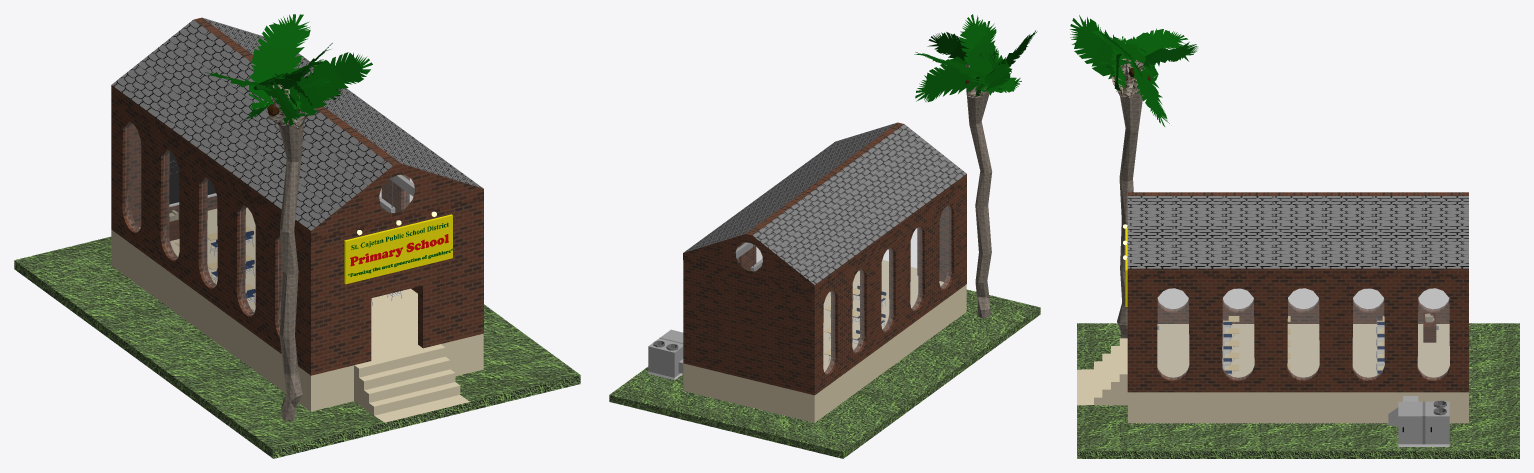
File: K-12 School.glb
3 renders of one model, left to right at view 1: azimuth 30°, elevation 25°; view 2: azimuth 150°, elevation 25°; view 3: azimuth 270°, elevation 25°, orthographic. The views are drawn at different scales.
Parts seen in each view (by area): view 1: Walls, Roof, Ground, Foundation, Coconut.002, Windows, Stairs, Trunk, Sign, Text.001, Chair, Blackboard; view 2: Walls, Roof, Ground, Foundation, Coconut.002, Windows, Trunk, RTU, Chair; view 3: Walls, Roof, Ground, Foundation, Windows, Coconut.002, Trunk, RTU, Stairs, Chair.
Boxes of the visible parts, left/top/right/bottom form: Walls: left=111, top=94, right=483, bottom=375; Roof: left=111, top=17, right=483, bottom=239; Ground: left=14, top=236, right=580, bottom=458; Foundation: left=111, top=207, right=483, bottom=411; Coconut.002: left=205, top=14, right=372, bottom=126; Windows: left=125, top=122, right=412, bottom=328; Stairs: left=354, top=344, right=460, bottom=415; Trunk: left=264, top=84, right=308, bottom=420; Sign: left=344, top=214, right=452, bottom=284; Text.001: left=348, top=222, right=452, bottom=276; Chair: left=175, top=225, right=402, bottom=305; Blackboard: left=169, top=151, right=216, bottom=206; Walls: left=683, top=181, right=966, bottom=395; Roof: left=683, top=122, right=966, bottom=291; Ground: left=609, top=289, right=1040, bottom=458; Foundation: left=683, top=263, right=966, bottom=422; Coconut.002: left=914, top=14, right=1037, bottom=101; Windows: left=737, top=206, right=951, bottom=373; Trunk: left=966, top=64, right=992, bottom=318; RTU: left=648, top=329, right=683, bottom=380; Chair: left=824, top=285, right=886, bottom=361; Walls: left=1127, top=276, right=1468, bottom=392; Roof: left=1127, top=192, right=1468, bottom=276; Ground: left=1077, top=323, right=1519, bottom=458; Foundation: left=1128, top=324, right=1468, bottom=423; Windows: left=1157, top=288, right=1449, bottom=379; Coconut.002: left=1070, top=15, right=1197, bottom=126; Trunk: left=1111, top=58, right=1144, bottom=338; RTU: left=1388, top=396, right=1449, bottom=446; Stairs: left=1094, top=338, right=1127, bottom=405; Chair: left=1222, top=315, right=1384, bottom=375.
Size of the model in its own units: 11.23 by 13.36 by 16.13.
Materials: 33 (6 with a texture image).
